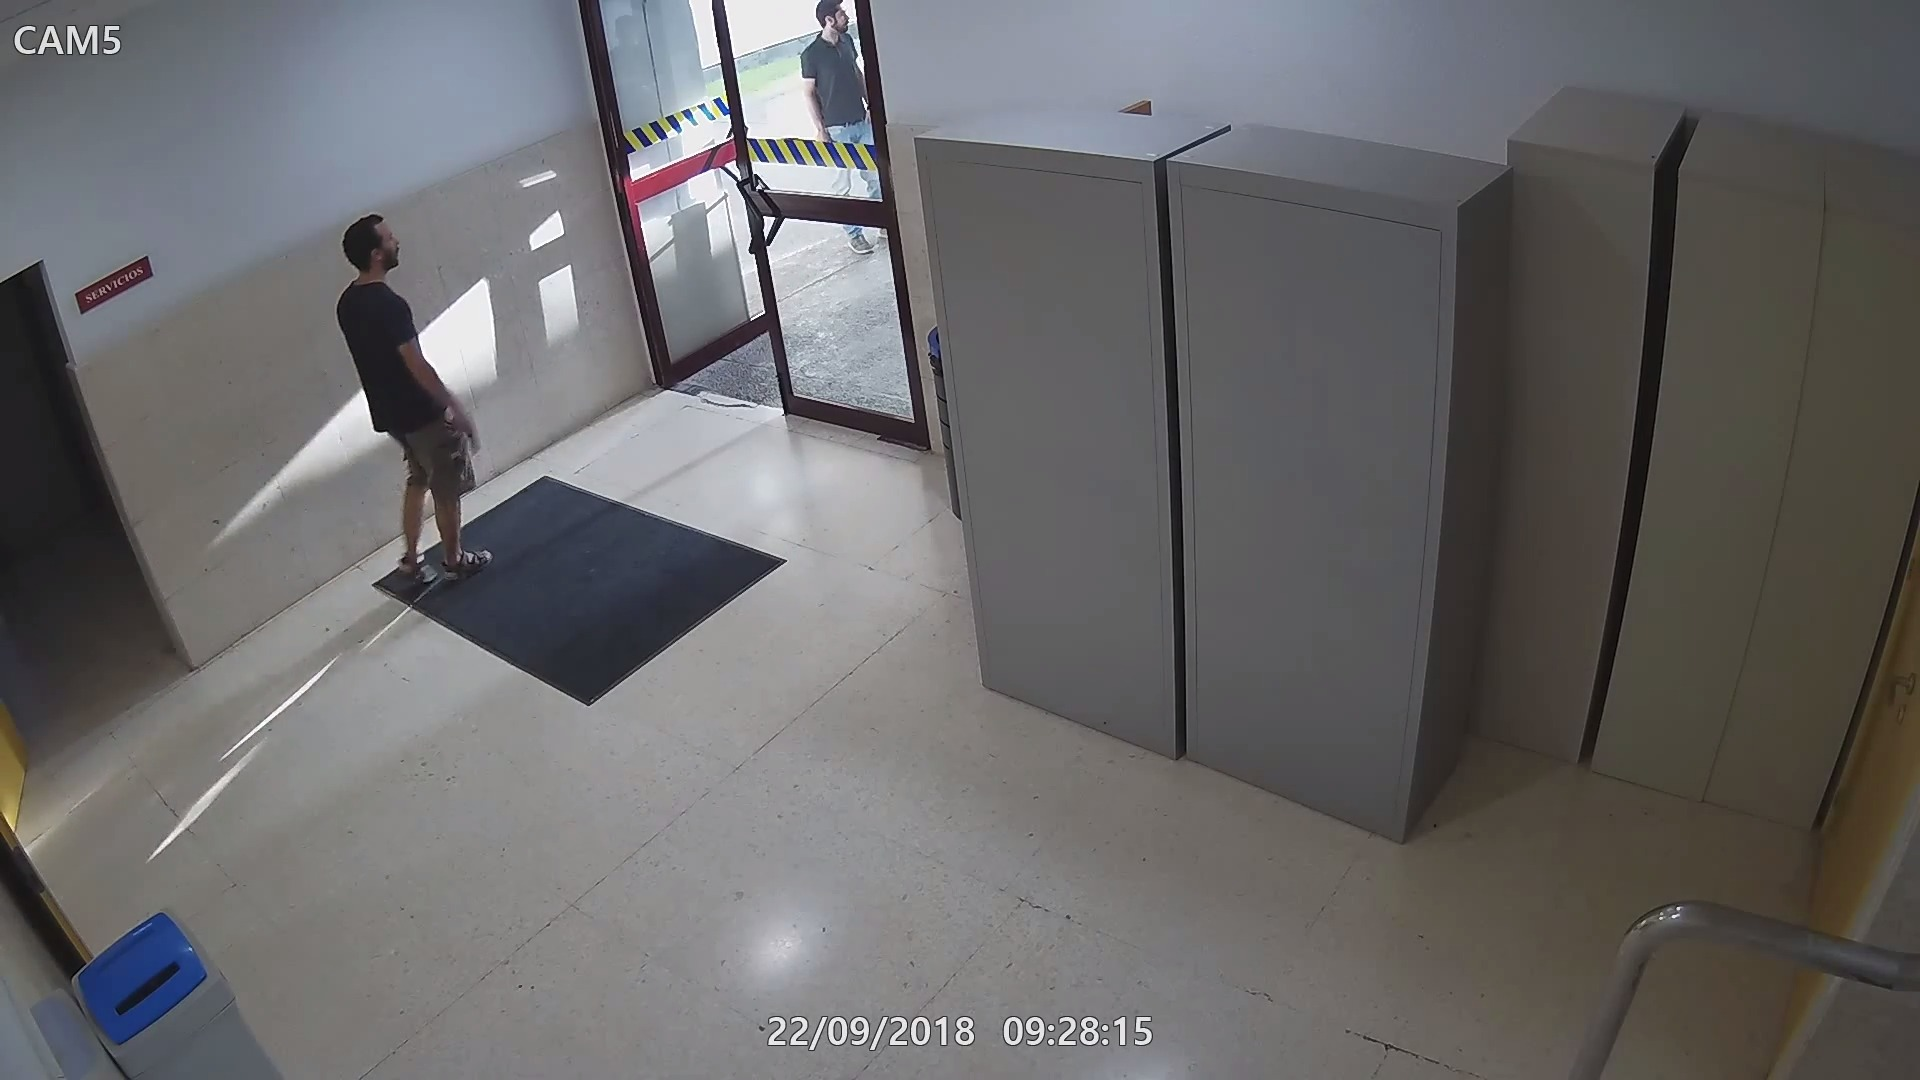Handgun: (446, 400, 487, 458)
